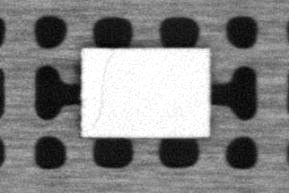DIE_CRACK: (85, 56, 112, 132)
